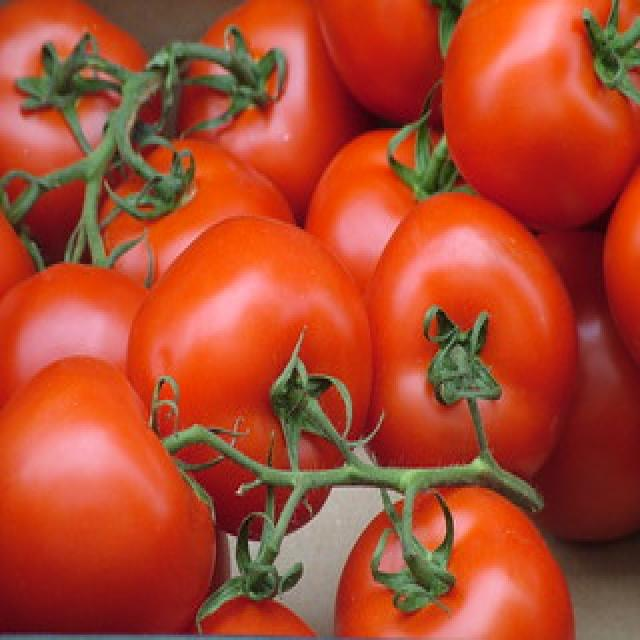Tomato: (120, 211, 378, 544), (361, 188, 582, 494), (1, 354, 217, 640), (438, 0, 640, 237), (334, 485, 583, 640)
